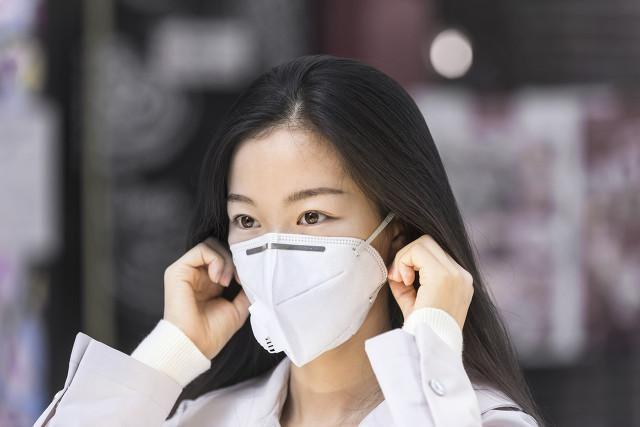mask: (222, 124, 404, 352)
